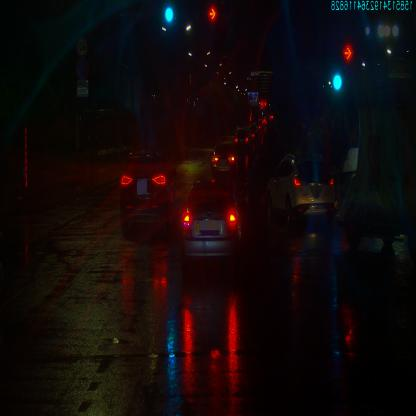traffic-light: (164, 3, 178, 24), (207, 8, 220, 26)
